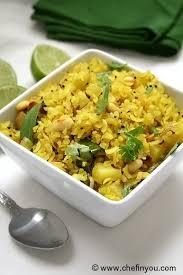poha: (0, 52, 183, 210)
